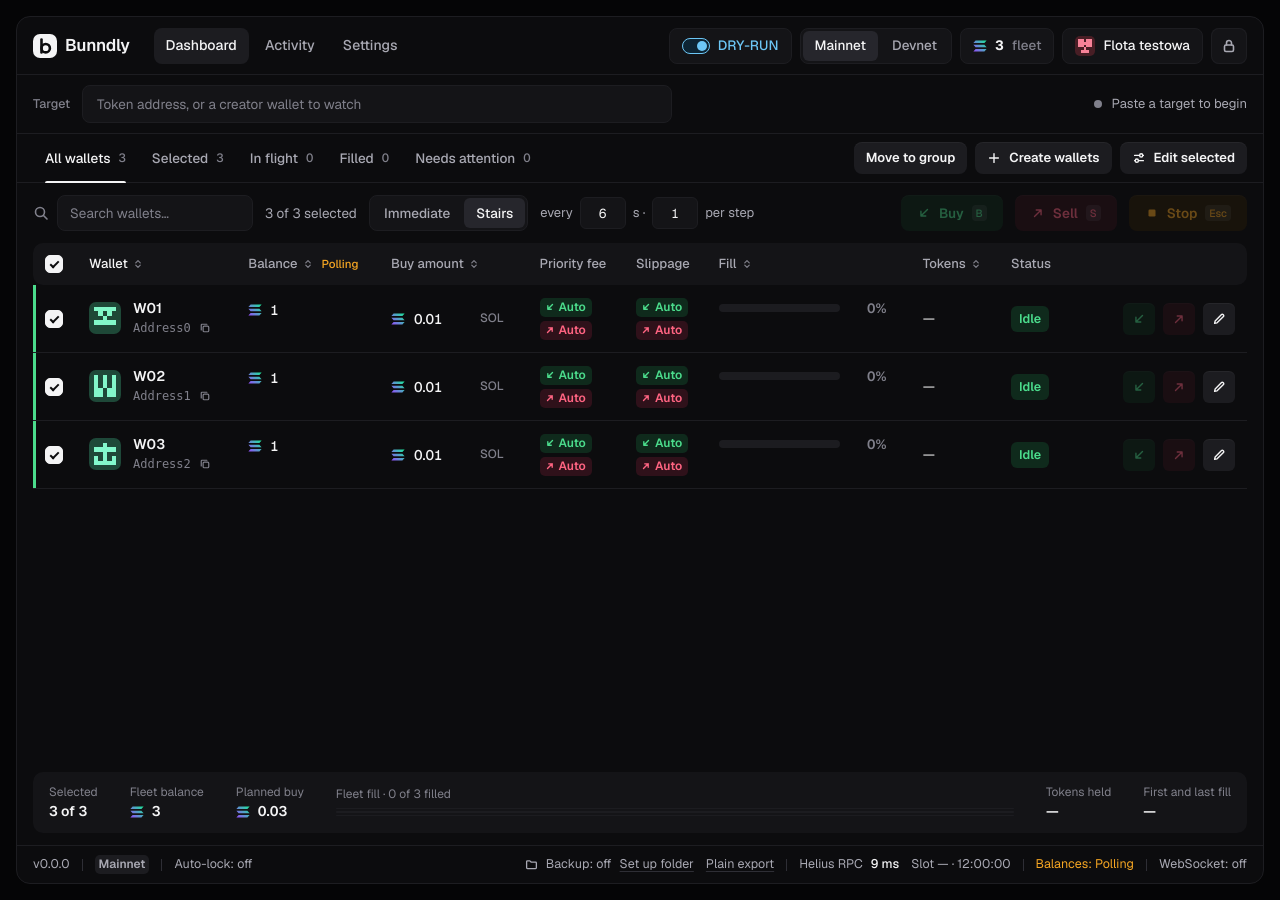
Test: Fill column and fleet fill (BUNNDLY-56) › no element of the fill bar has a class that base.css styles globally (e.g. the header .top)
The image size is (1280, 900).
Click the field named "Target: token mint or creator wallet" at (380, 104), box [95, 94, 665, 114]
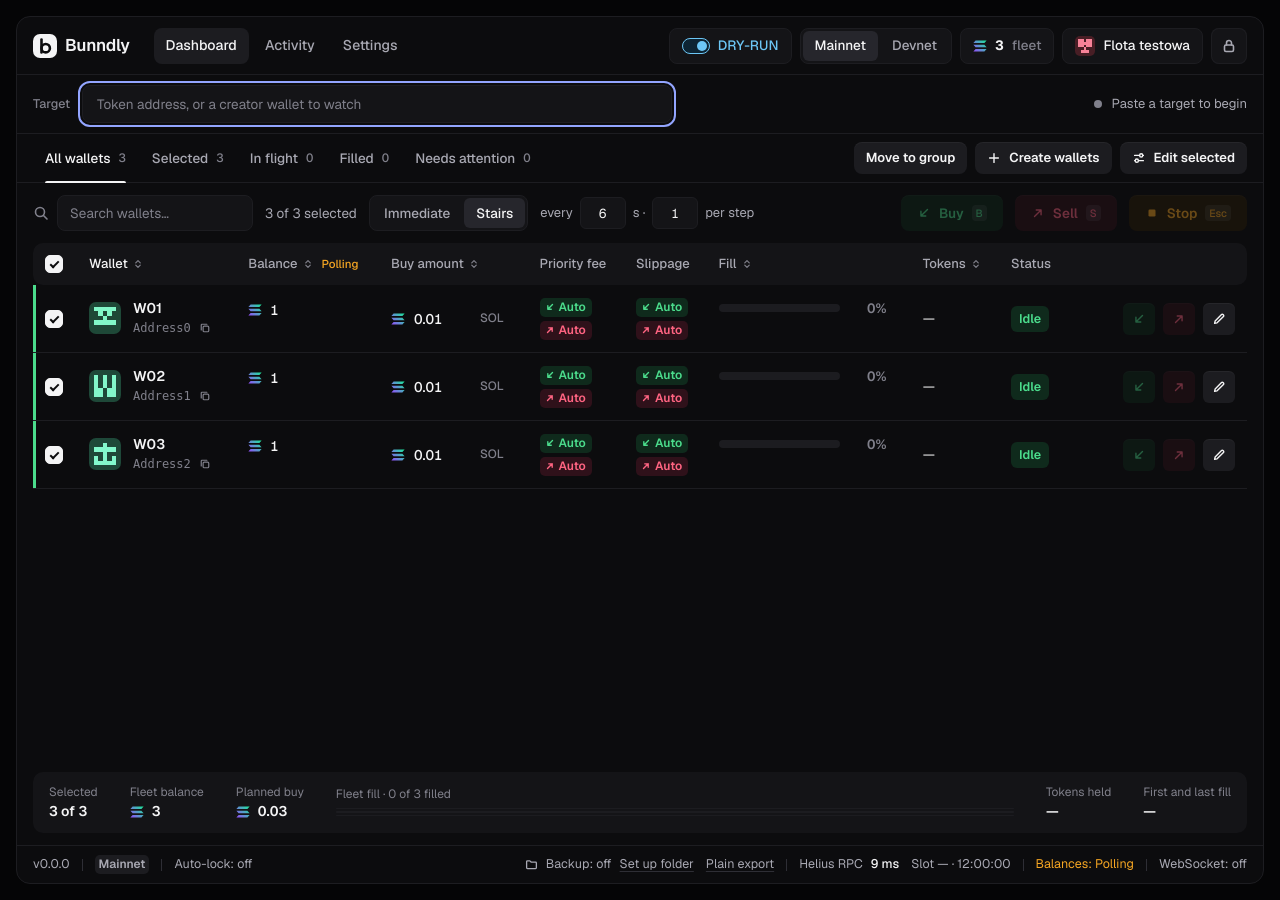
Type keys "EPjFWdd5AufqSSqeM2qN1xzybapC8G4wEGGkZwyTDt1v"
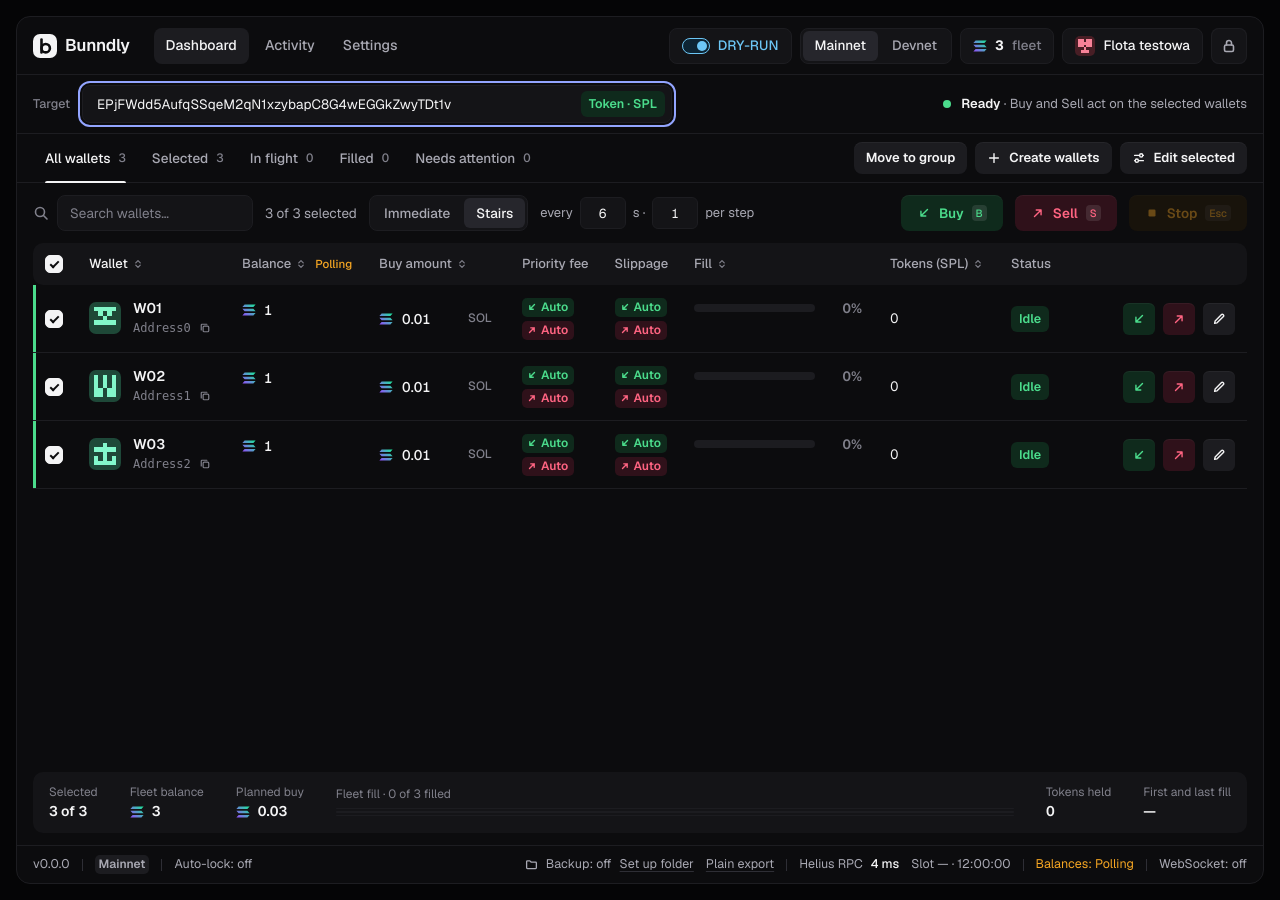
Check: the column heading "Tokens (SPL)" is shown, box [878, 243, 999, 285]
